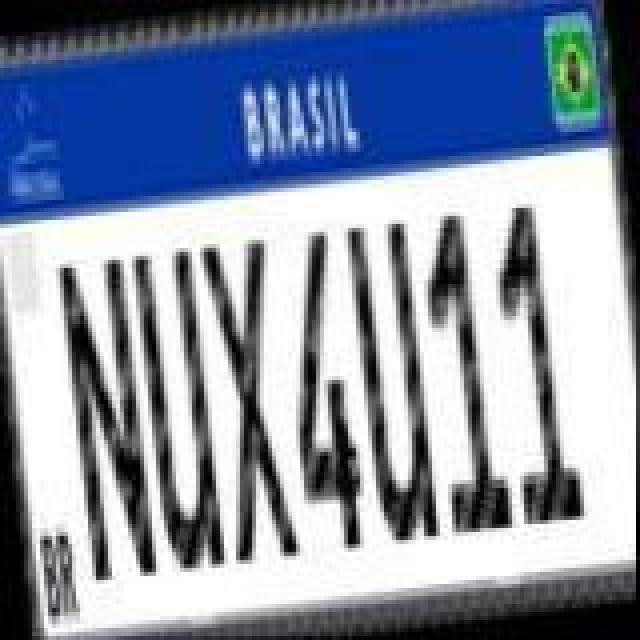1: (412, 202, 520, 546), (486, 192, 590, 528)
4: (266, 222, 370, 558)
N: (56, 250, 164, 590)
U: (338, 212, 442, 552), (132, 238, 232, 574)
X: (196, 228, 304, 568)
